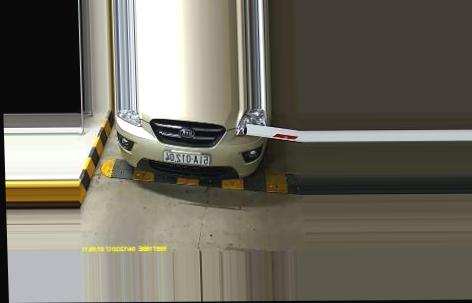License_Plate: (160, 148, 212, 169)
